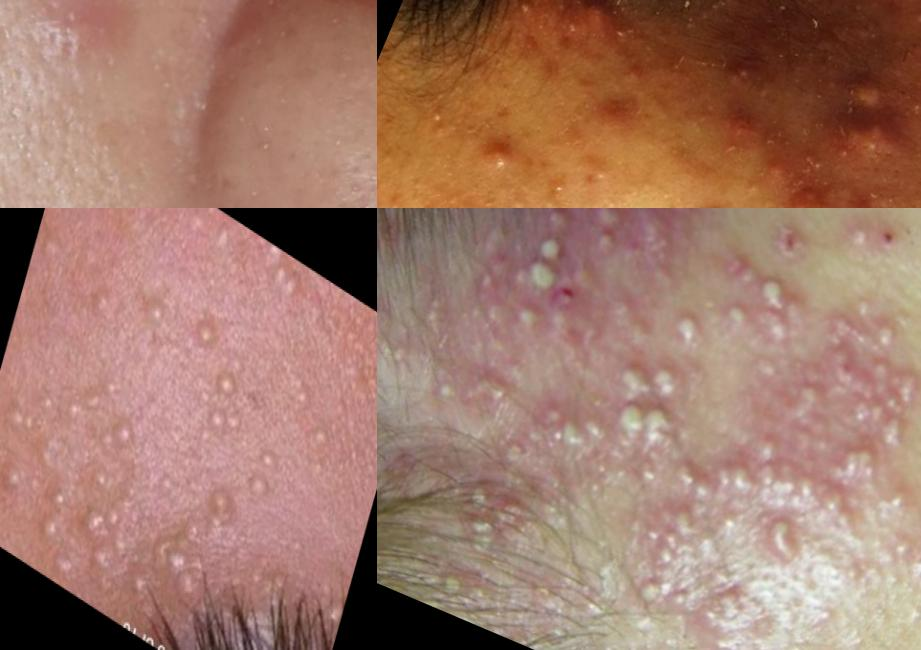cystic: (840, 62, 899, 123)
milium: (123, 444, 244, 649), (72, 480, 138, 589), (201, 354, 261, 458), (75, 390, 138, 484), (245, 437, 288, 510), (134, 279, 178, 343), (267, 253, 311, 309), (188, 304, 224, 361), (36, 500, 70, 552), (304, 412, 336, 462), (1, 456, 32, 504)
papular: (1, 1, 158, 111), (574, 76, 640, 142), (757, 155, 795, 193)
purulent: (414, 267, 563, 418), (785, 329, 921, 492), (614, 493, 730, 619), (587, 340, 710, 456), (663, 564, 815, 650), (422, 474, 540, 576), (711, 260, 823, 364), (504, 395, 618, 490), (670, 445, 761, 522), (577, 209, 689, 271), (767, 462, 856, 529), (862, 506, 921, 603), (507, 240, 580, 310), (743, 498, 817, 559), (812, 209, 882, 272), (856, 307, 920, 369), (650, 297, 713, 356), (519, 220, 580, 275), (466, 129, 527, 183), (842, 190, 886, 209), (517, 1, 533, 18)
sebo-crystan-conglo: (828, 99, 920, 188), (703, 42, 764, 107), (563, 1, 629, 50), (787, 182, 850, 209)
whitehead: (799, 149, 835, 184), (542, 172, 577, 203), (419, 101, 451, 133), (904, 3, 921, 36), (588, 166, 611, 190)
